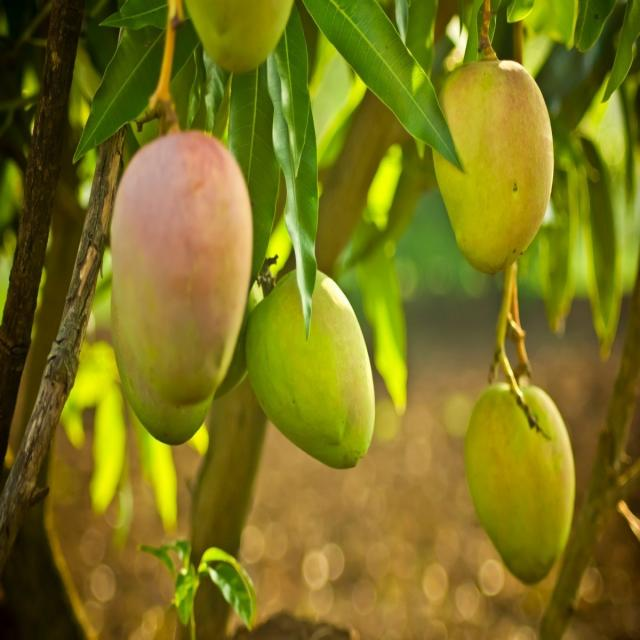mango: (110, 124, 256, 407), (248, 303, 380, 474), (464, 381, 576, 582), (462, 57, 556, 275)
